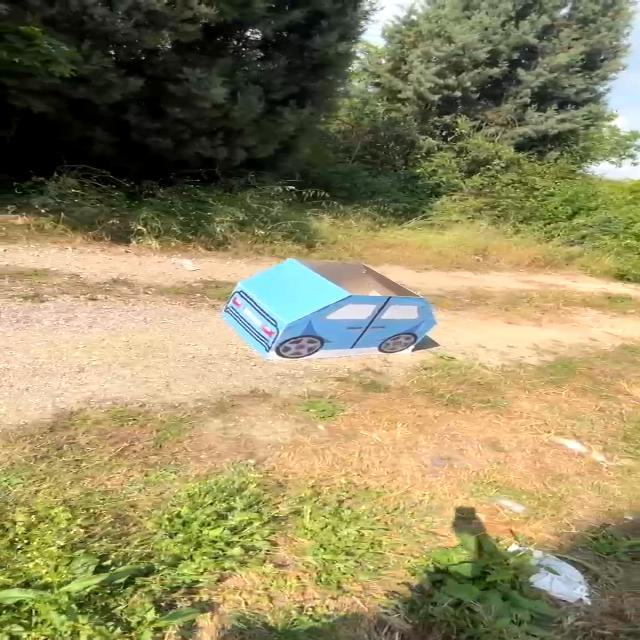blue_car: (192, 246, 474, 376)
